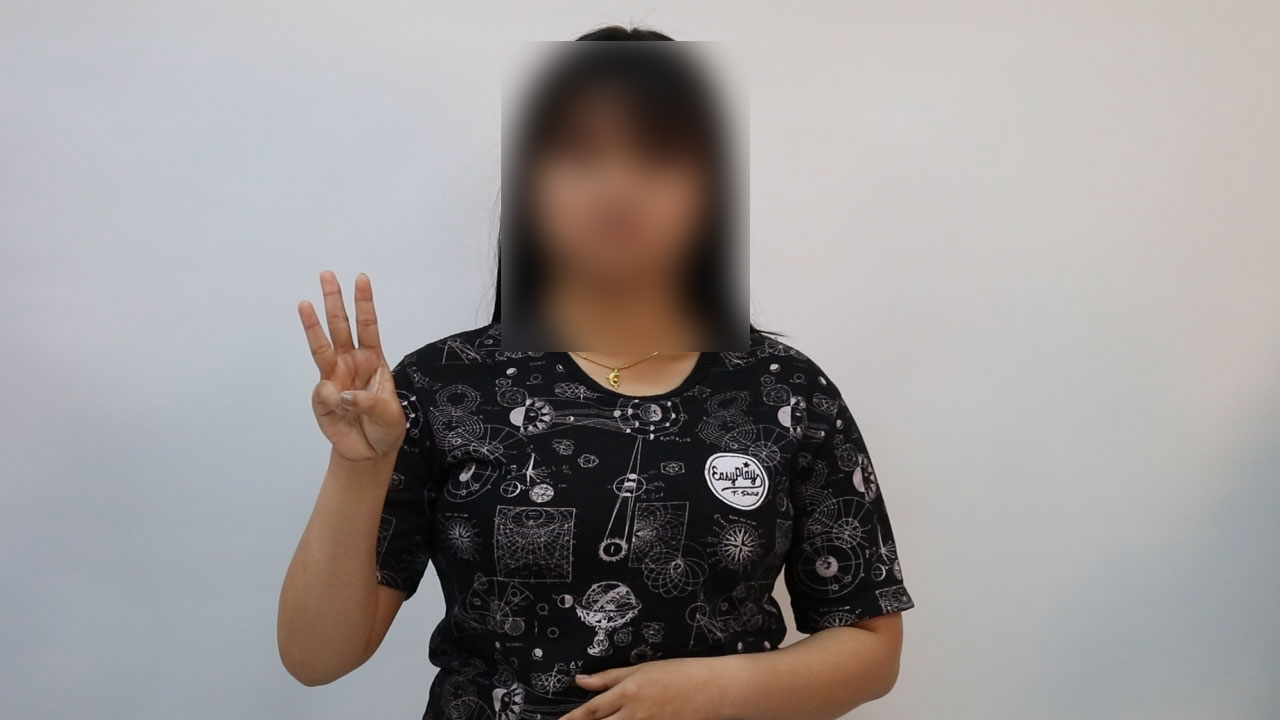wor: (291, 259, 417, 472)
